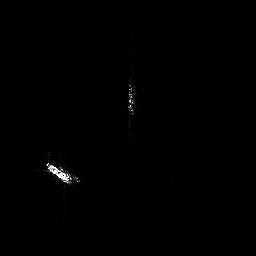ship: (46, 162, 71, 184)
